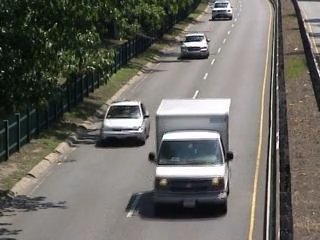car: (100, 99, 152, 148), (179, 31, 210, 61), (210, 1, 232, 21)
truck: (150, 97, 234, 220)
